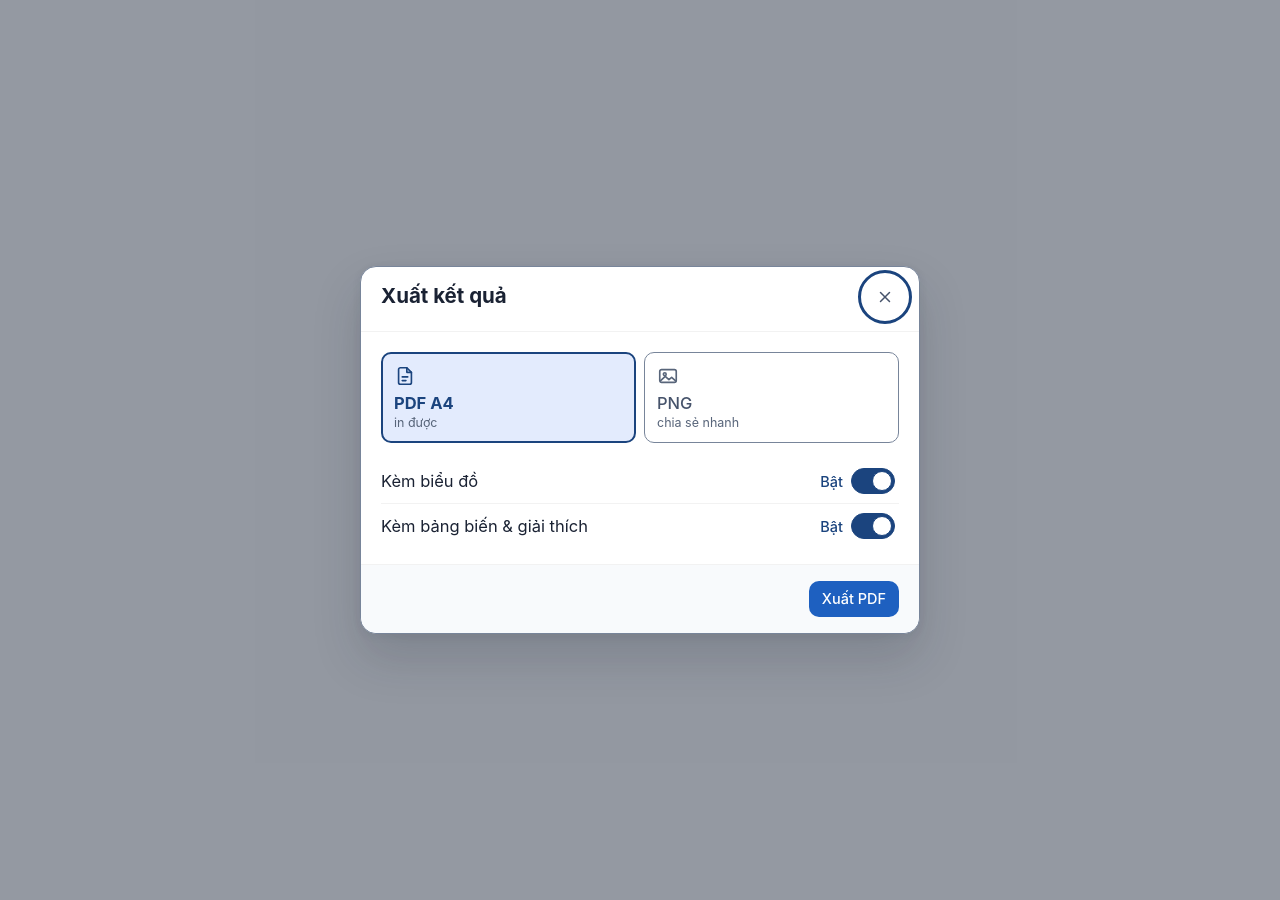
Test: ExportSheet — FR-24 › đổi định dạng thì đổi nhãn nút, và trạng thái chọn báo bằng aria-pressed
Expected: the button "Xuất PDF" is shown, x1=809 y1=581 x2=899 y2=617
Click the button "PNG chia sẻ nhanh" at (772, 398), box x1=644 y1=352 x2=899 y2=443
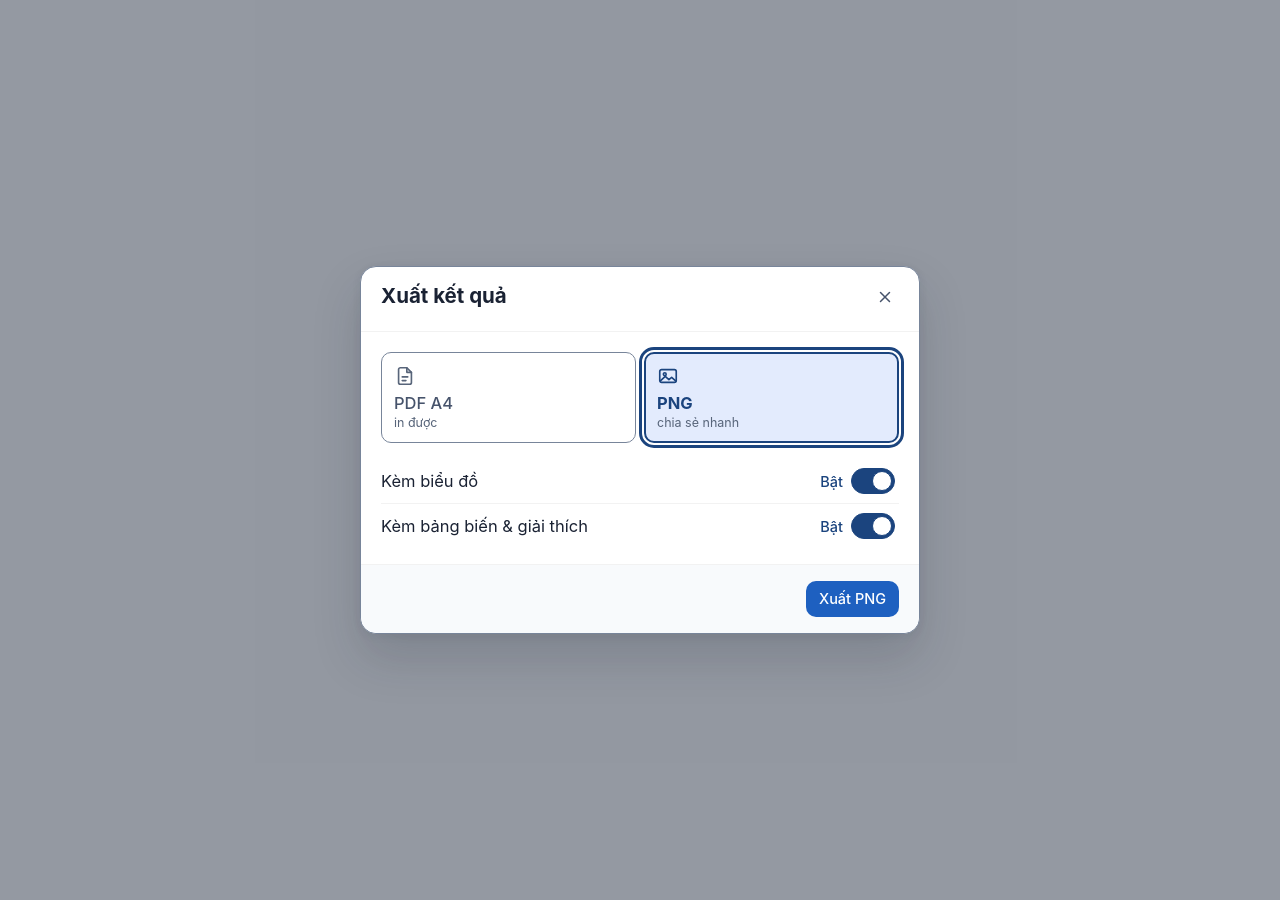
Now the button "Xuất PNG" is shown, box x1=806 y1=581 x2=899 y2=617
